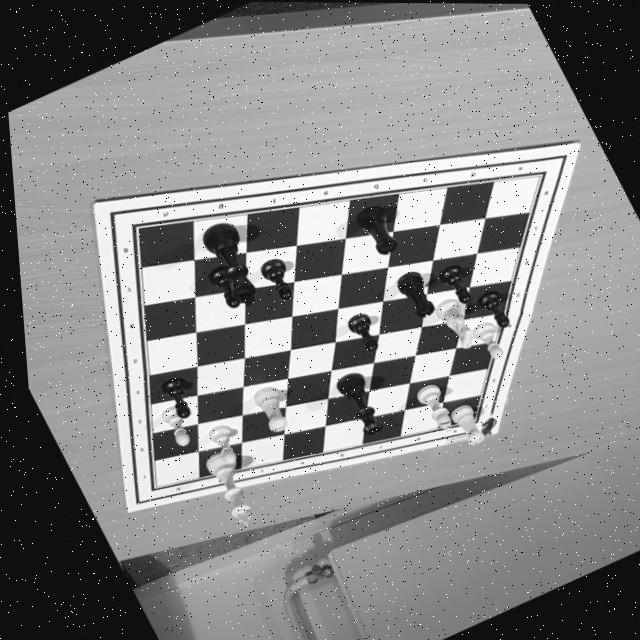chessboard: (134, 172, 542, 487)
